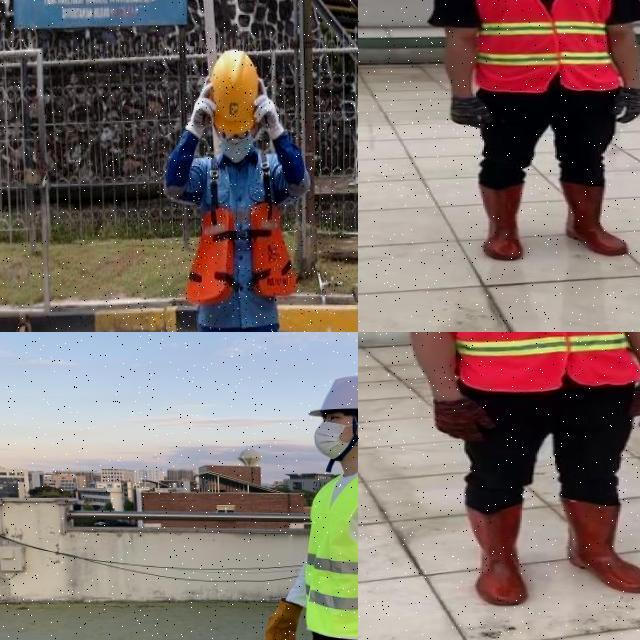boots: (557, 494, 640, 592), (463, 501, 527, 605), (558, 180, 634, 254), (475, 182, 526, 260)
helmet: (212, 50, 258, 132), (306, 374, 358, 423)
vest: (470, 0, 620, 90), (184, 202, 299, 308), (445, 332, 637, 390), (305, 462, 358, 639)
